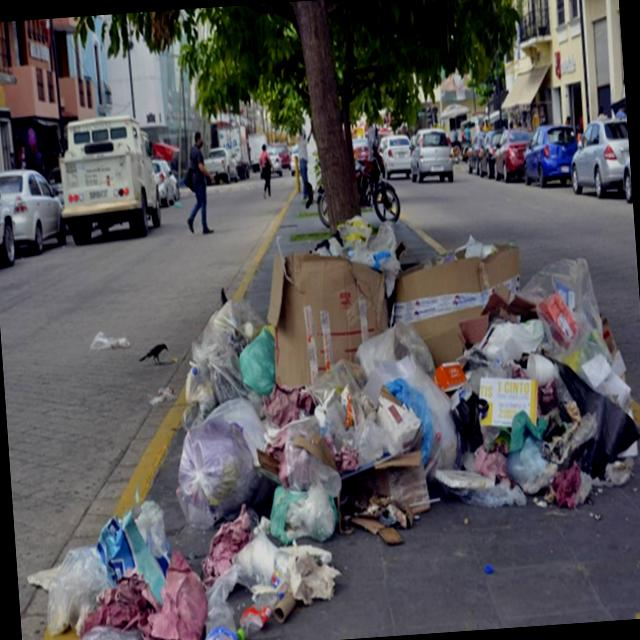garbage: (4, 189, 640, 640)
